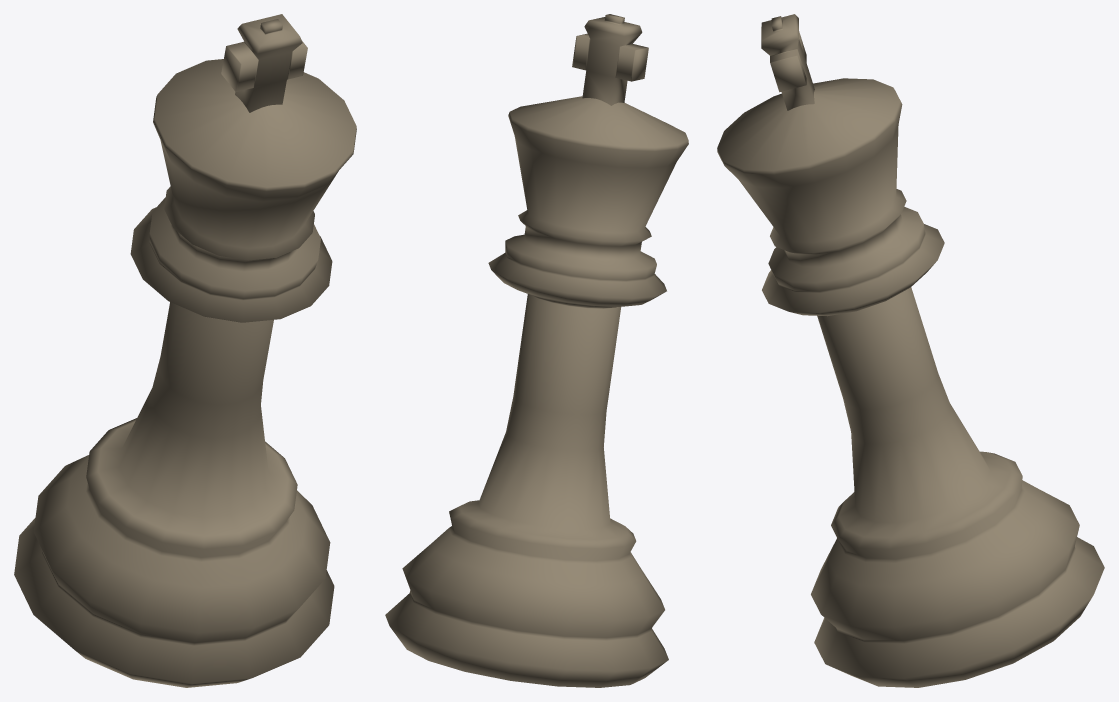
File: ChessPiece-DuIKOjwY.glb
The picture shows the model from 3 angles, left to right: view 1: azimuth 30°, elevation 25°; view 2: azimuth 150°, elevation 25°; view 3: azimuth 270°, elevation 25°; orthographic projection. The views are drawn at different scales.
Visible parts, largest first — view 1: Plane; view 2: Plane; view 3: Plane.
Part boxes in pixels (<box>): Plane: <box>14,14,356,687</box>; Plane: <box>385,14,688,687</box>; Plane: <box>717,14,1104,687</box>.
Bounding box in the file's own units: 0.4045 × 0.9411 × 0.519.
